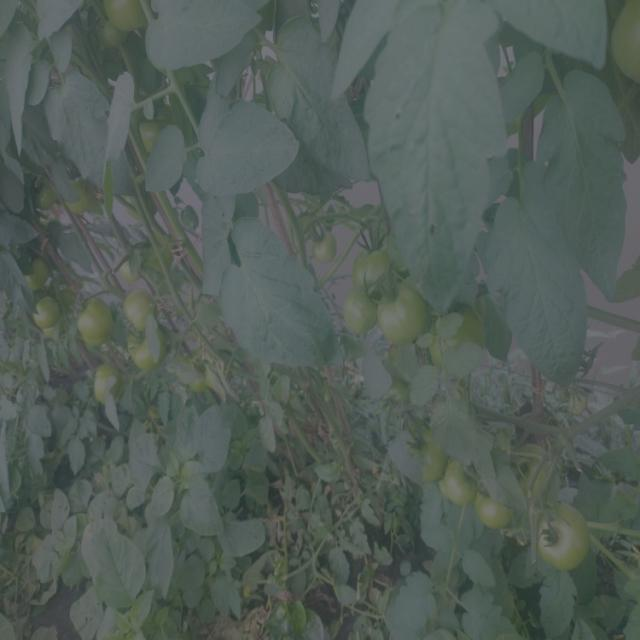tomato: (94, 1, 162, 41), (610, 1, 640, 90), (540, 506, 583, 568), (433, 315, 486, 360), (401, 430, 448, 476), (384, 290, 425, 341), (79, 299, 112, 350), (183, 356, 226, 392), (124, 289, 162, 326), (358, 249, 397, 284), (129, 331, 162, 369), (30, 300, 64, 336), (483, 493, 516, 530), (345, 293, 377, 331), (452, 458, 476, 503), (28, 258, 64, 287), (312, 227, 338, 266), (146, 237, 171, 276), (134, 124, 165, 155), (32, 182, 59, 210), (67, 188, 93, 214), (100, 368, 117, 404), (117, 261, 142, 282)
